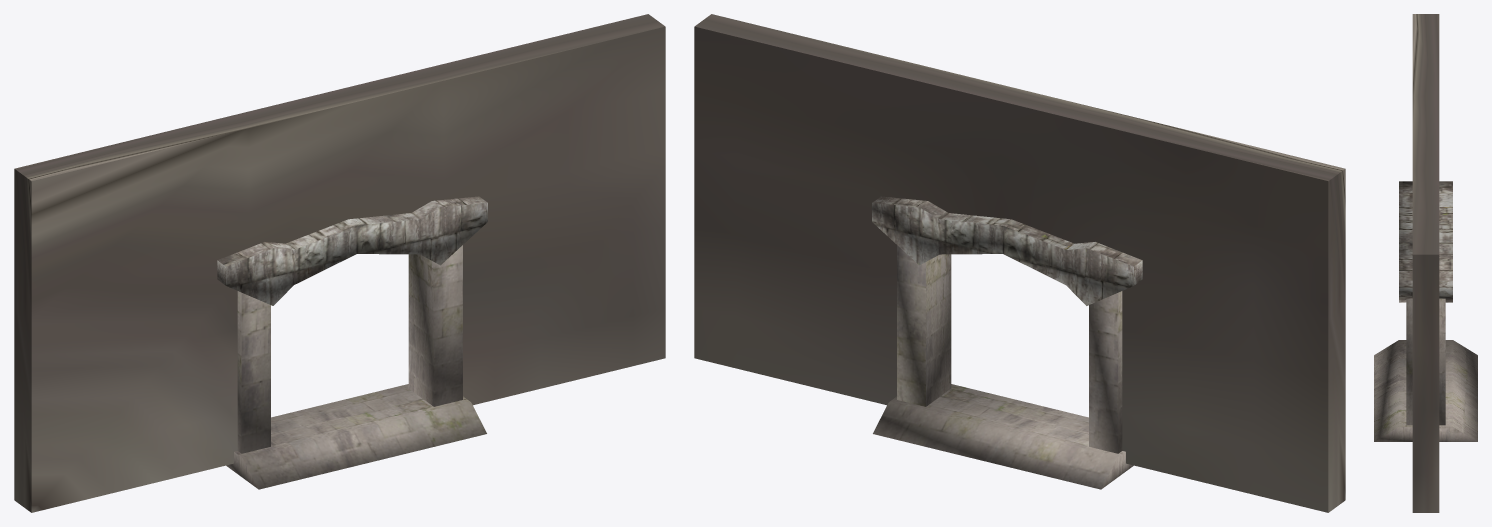
Rendered from wall_lg_entry.glb.
The picture shows the model from 3 angles, left to right: view 1: azimuth 30°, elevation 25°; view 2: azimuth 150°, elevation 25°; view 3: azimuth 270°, elevation 25°; orthographic projection. The views are drawn at different scales.
Visible parts, largest first — view 1: wall_lg_entry; view 2: wall_lg_entry; view 3: wall_lg_entry.
Boxes of the visible parts, x1=… form: wall_lg_entry: x1=14, y1=14, x2=665, y2=512; wall_lg_entry: x1=694, y1=14, x2=1345, y2=512; wall_lg_entry: x1=1374, y1=14, x2=1477, y2=512.
Size of the model in its own units: 16 by 8.19 by 2.92.
Materials: 3 (3 with a texture image).
